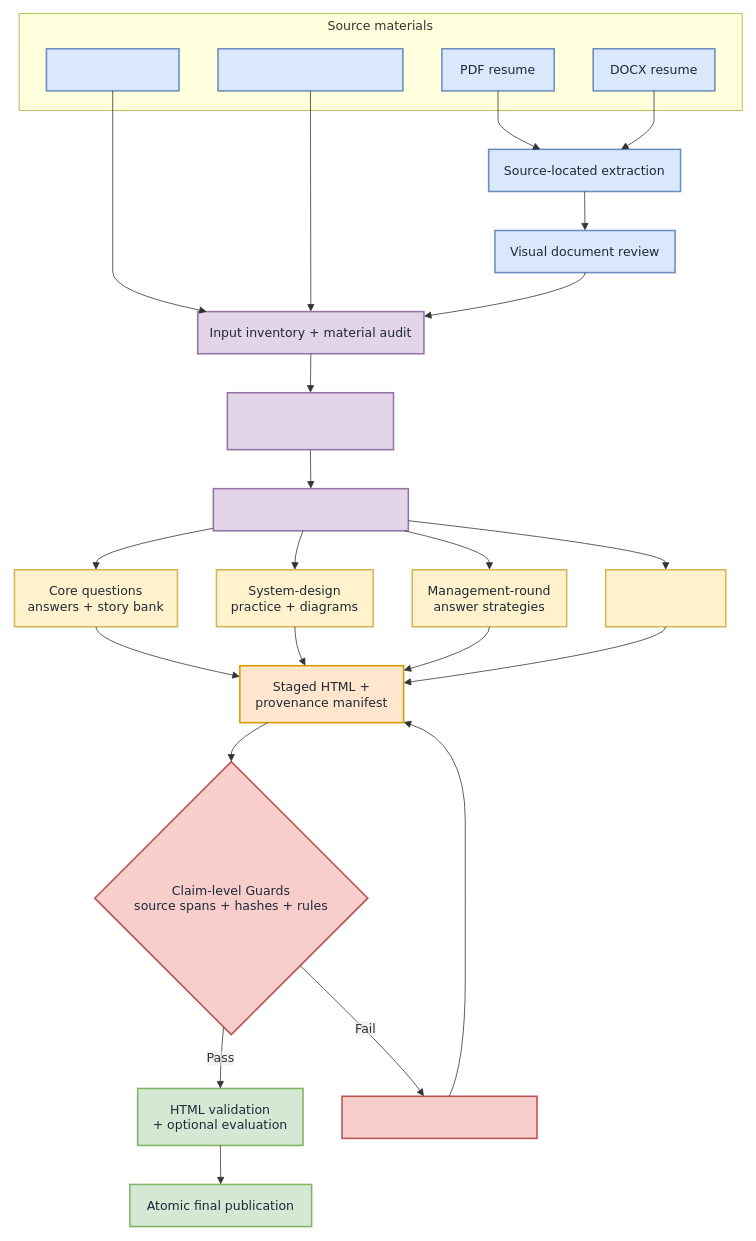
This 756x1241 diagram has some shape labels left out. The centre of each missing label's shape, as x and y in pixels:
Evidence ledger JD / CV / USER / SRC: (x=310, y=421)
Gap-focused learning plan: (x=665, y=598)
Job description: (x=112, y=69)
Markdown / text resume: (x=310, y=69)
Repair unsupported claims: (x=439, y=1117)
Role-resume match matrix: (x=310, y=509)
